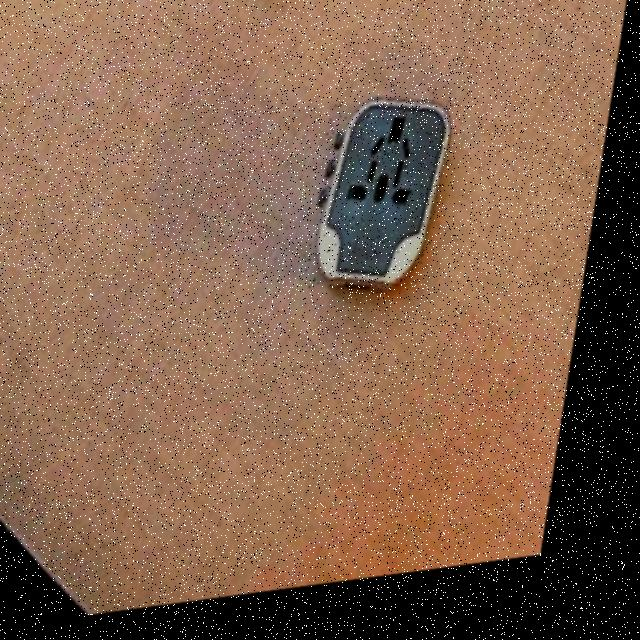adapter: (311, 99, 462, 310)
